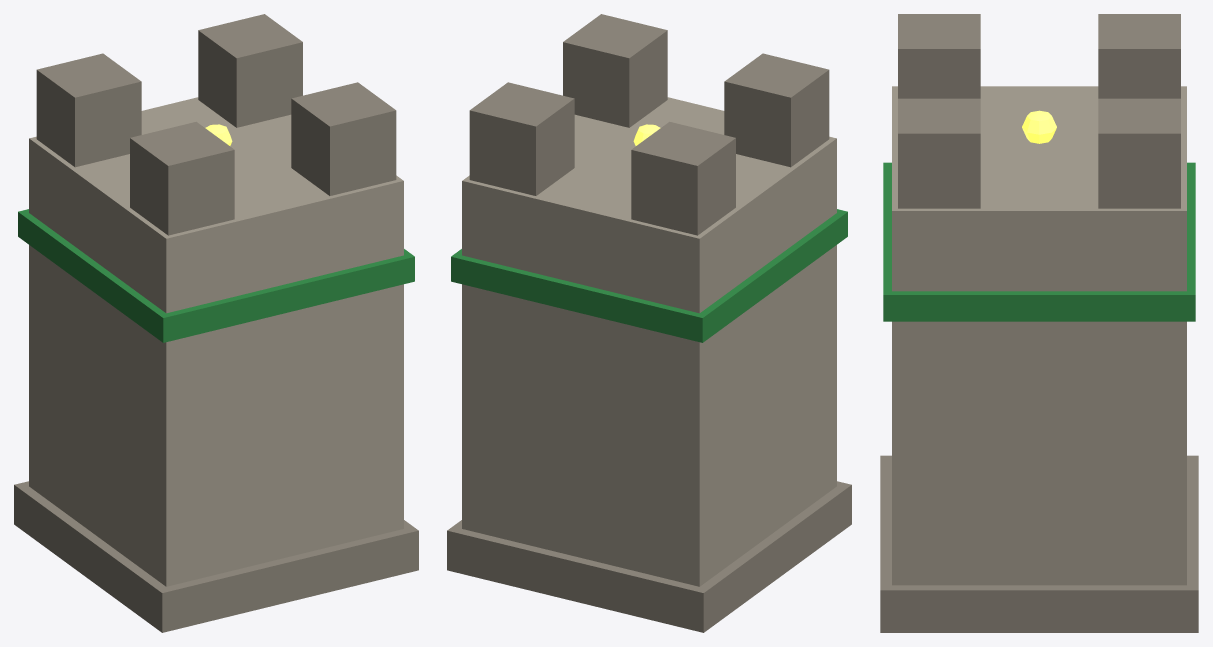
The model's file is wallChn_lod1.glb.
The picture shows the model from 3 angles, left to right: view 1: azimuth 30°, elevation 25°; view 2: azimuth 150°, elevation 25°; view 3: azimuth 270°, elevation 25°; orthographic projection. The views are drawn at different scales.
Parts seen in each view (by area): view 1: WallChn_LOD1_Walls, WallChn_LOD1_Details, WallChn_LOD1_Foundation; view 2: WallChn_LOD1_Walls, WallChn_LOD1_Details, WallChn_LOD1_Foundation; view 3: WallChn_LOD1_Walls, WallChn_LOD1_Details, WallChn_LOD1_Foundation.
Part boxes in pixels (<box>): WallChn_LOD1_Walls: <box>29,97,403,586</box>; WallChn_LOD1_Details: <box>18,14,414,342</box>; WallChn_LOD1_Foundation: <box>14,481,418,632</box>; WallChn_LOD1_Walls: <box>462,97,836,586</box>; WallChn_LOD1_Details: <box>451,14,847,342</box>; WallChn_LOD1_Foundation: <box>447,481,851,632</box>; WallChn_LOD1_Walls: <box>892,86,1186,585</box>; WallChn_LOD1_Details: <box>883,14,1195,321</box>; WallChn_LOD1_Foundation: <box>880,455,1198,632</box>.
Size of the model in its own units: 0.54 by 0.92 by 0.54.
